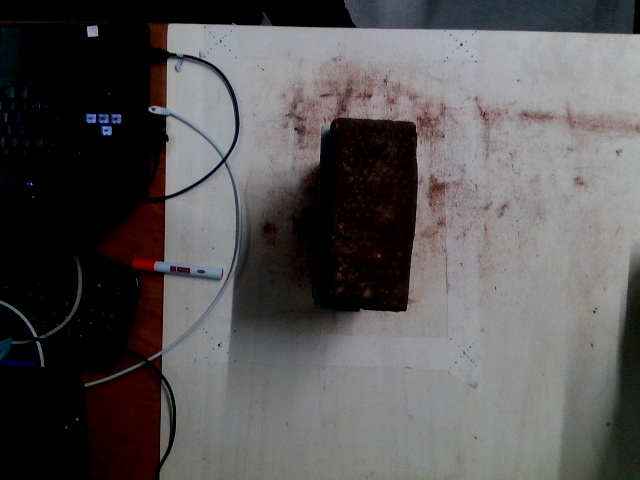brick: (333, 119, 412, 310)
